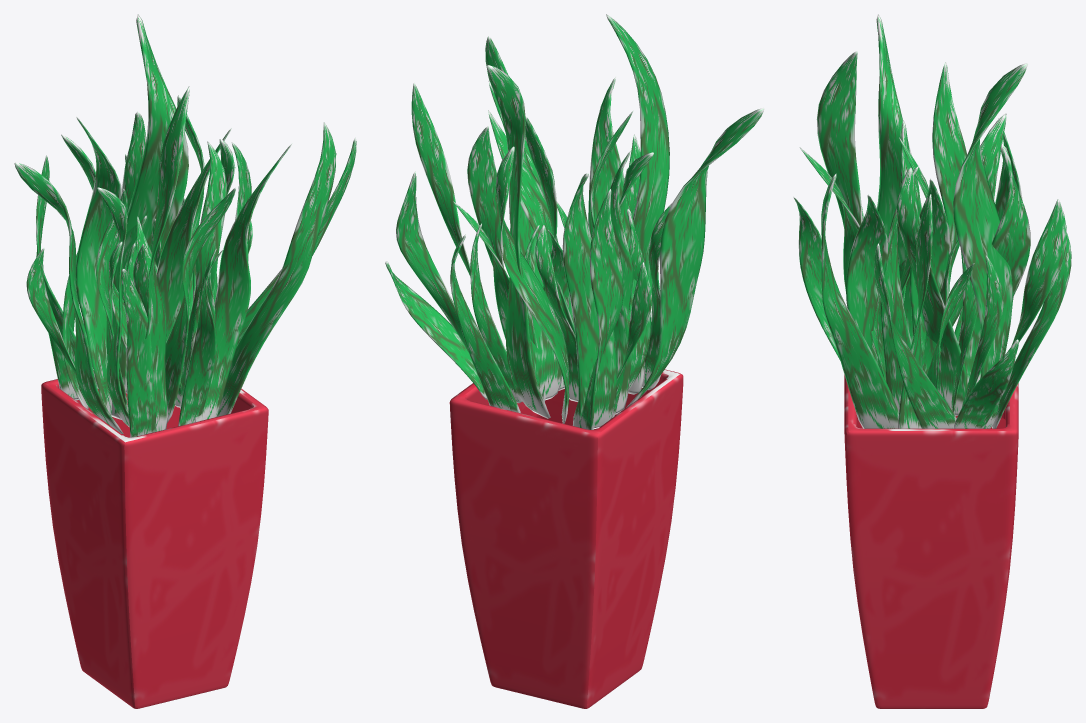
Rendered from plant2.obj.
The picture shows the model from 3 angles, left to right: view 1: azimuth 30°, elevation 25°; view 2: azimuth 150°, elevation 25°; view 3: azimuth 270°, elevation 25°; orthographic projection. The views are drawn at different scales.
Bounding box in the file's own units: 294 × 512 × 202.
Materials: 2 (2 with a texture image).
